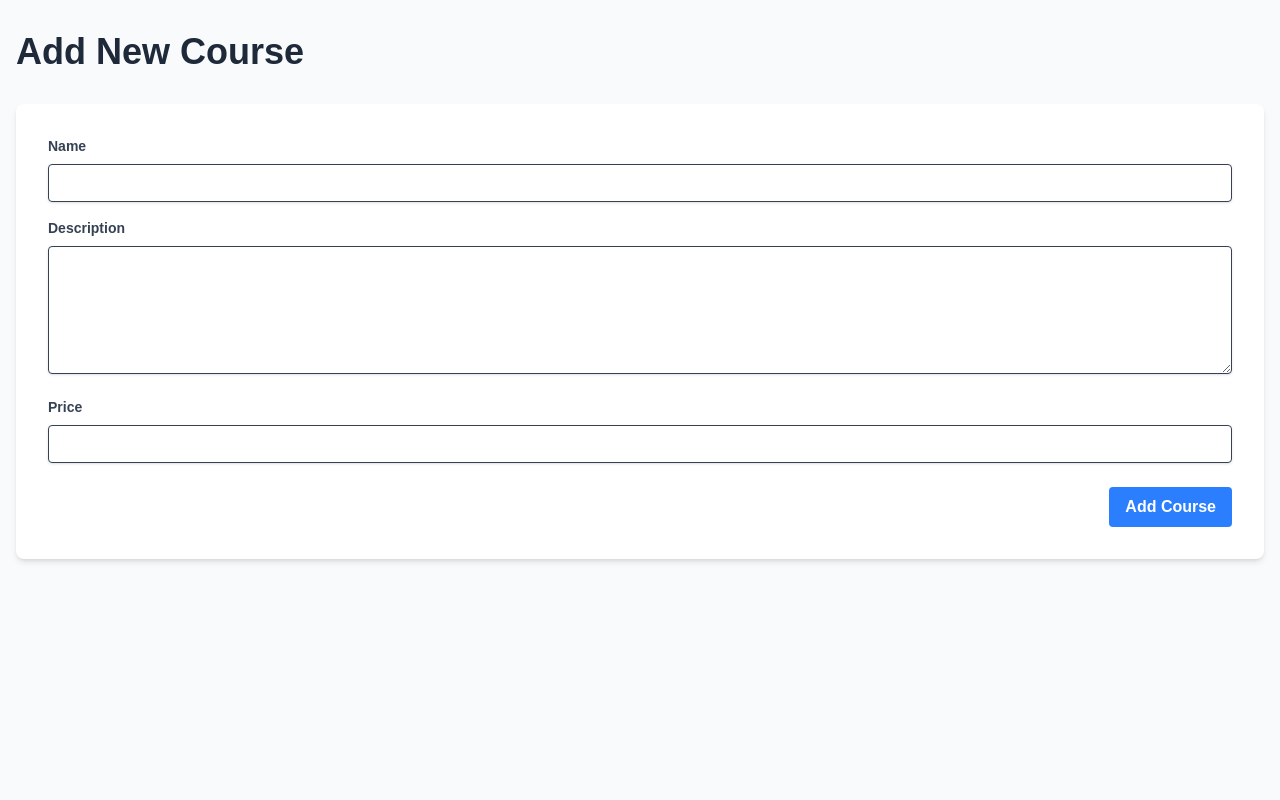
Test: CreateCoursePage › shows an error message on submission failure
Type "Test Course" into the field labelled "Name" at (640, 183), box [48,164,1232,202]
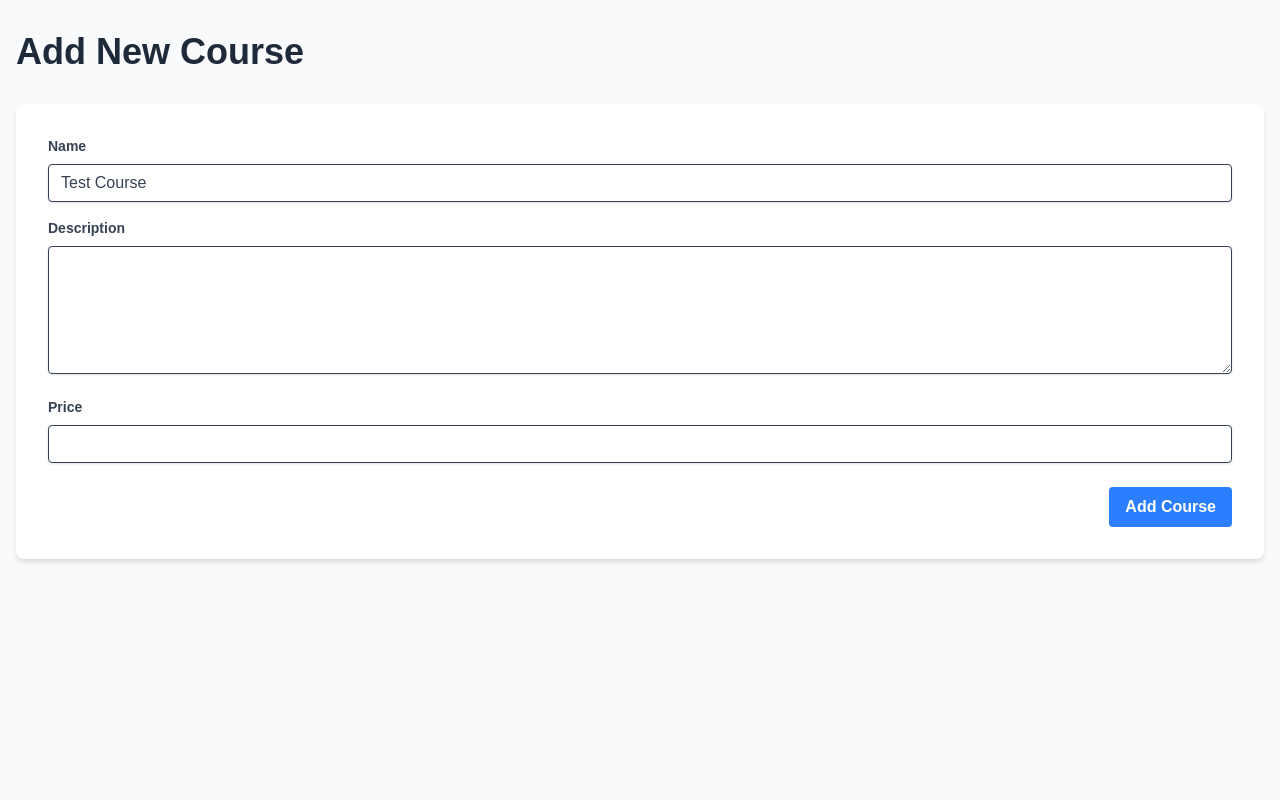
Type "Test Description" into the text box labelled "Description" at (640, 310), box [48,246,1232,374]
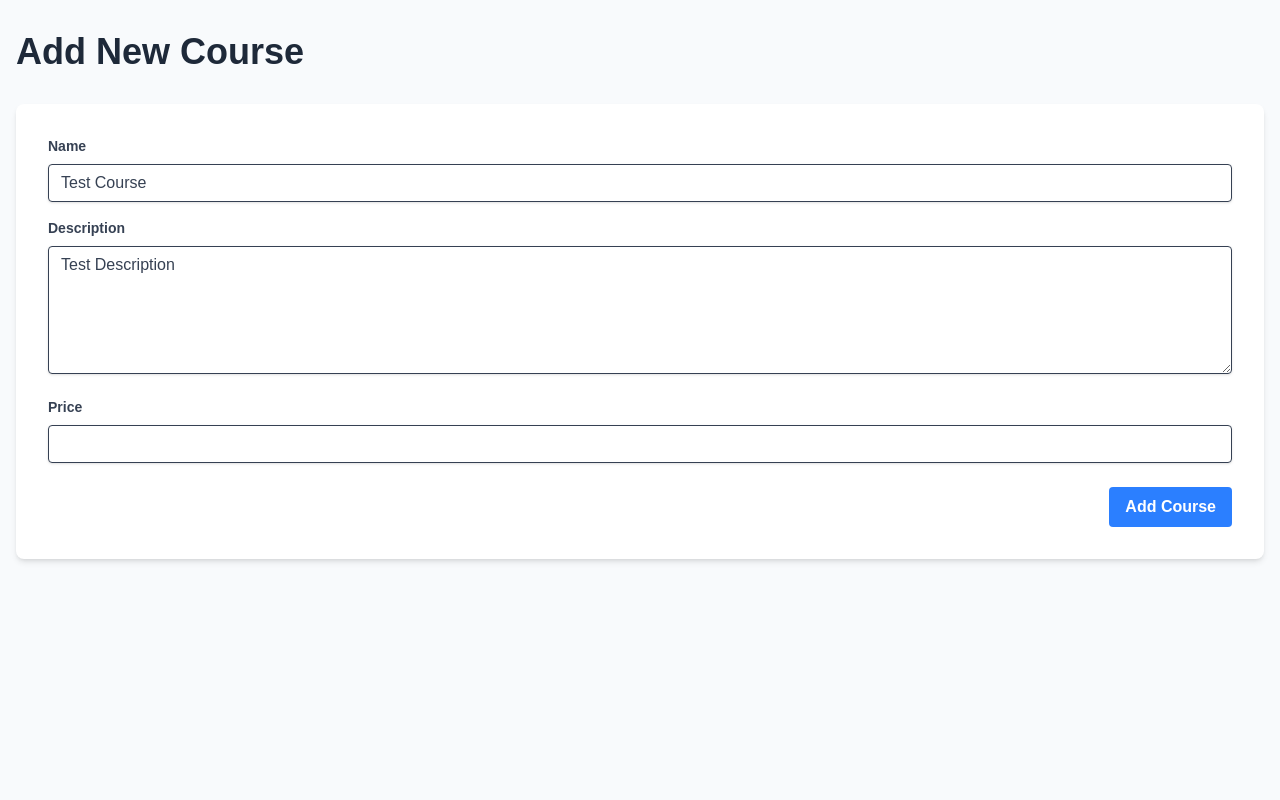
Type "123" into the number field labelled "Price" at (640, 444), box [48,425,1232,463]
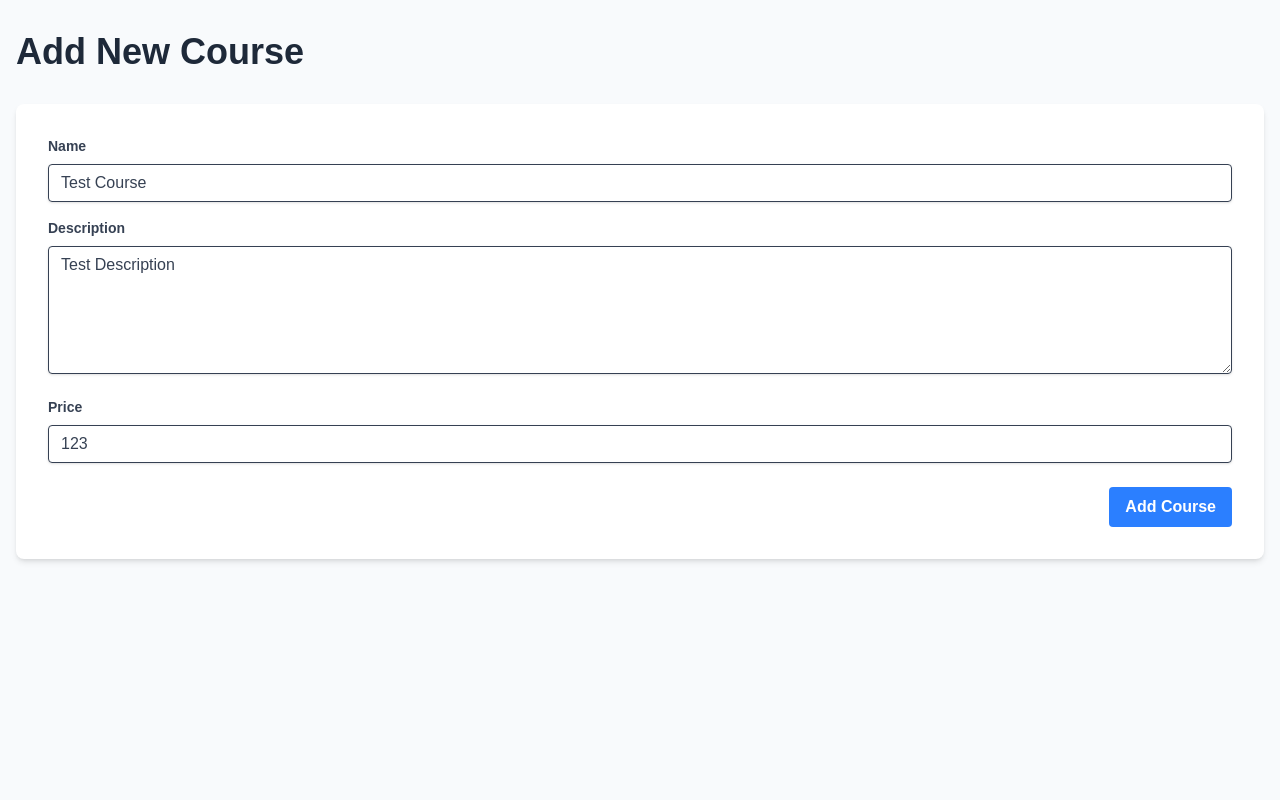
Click the button "Add Course" at (1171, 507), box [1109,487,1232,527]
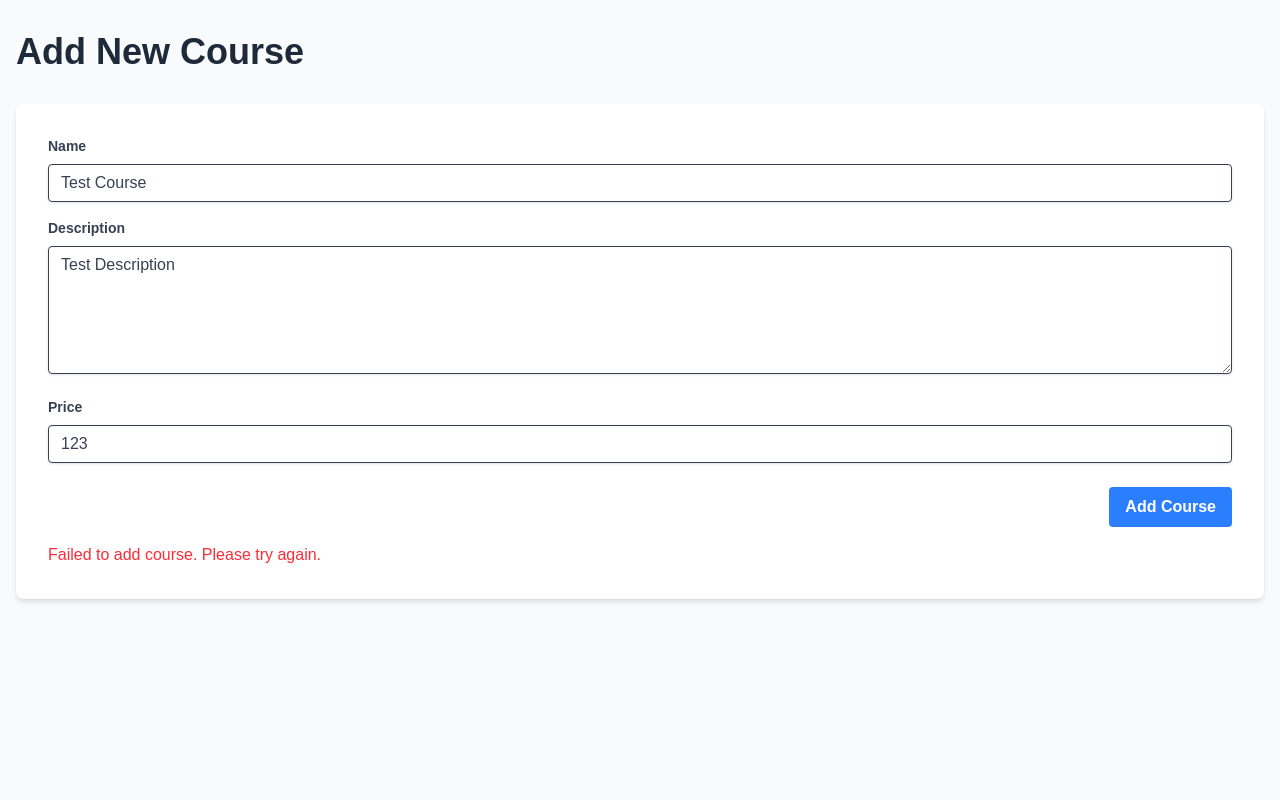
Expected: the text "Failed to add course. Please try again." is shown, [48,546,321,563]
